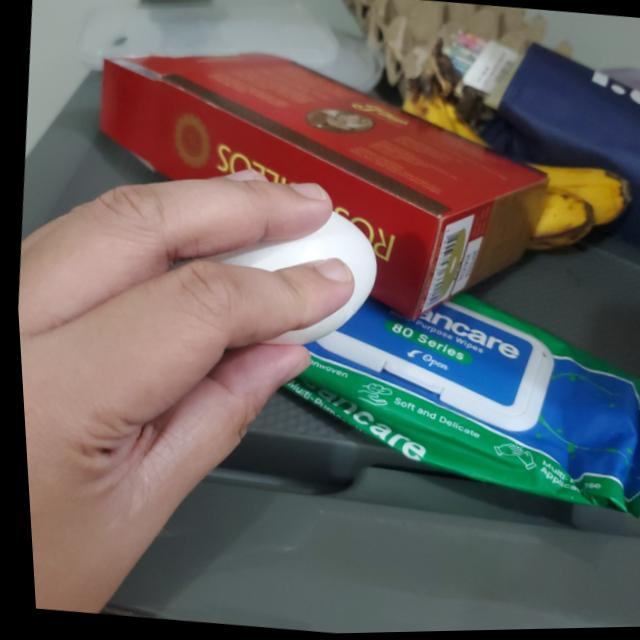egg: (184, 201, 382, 354)
